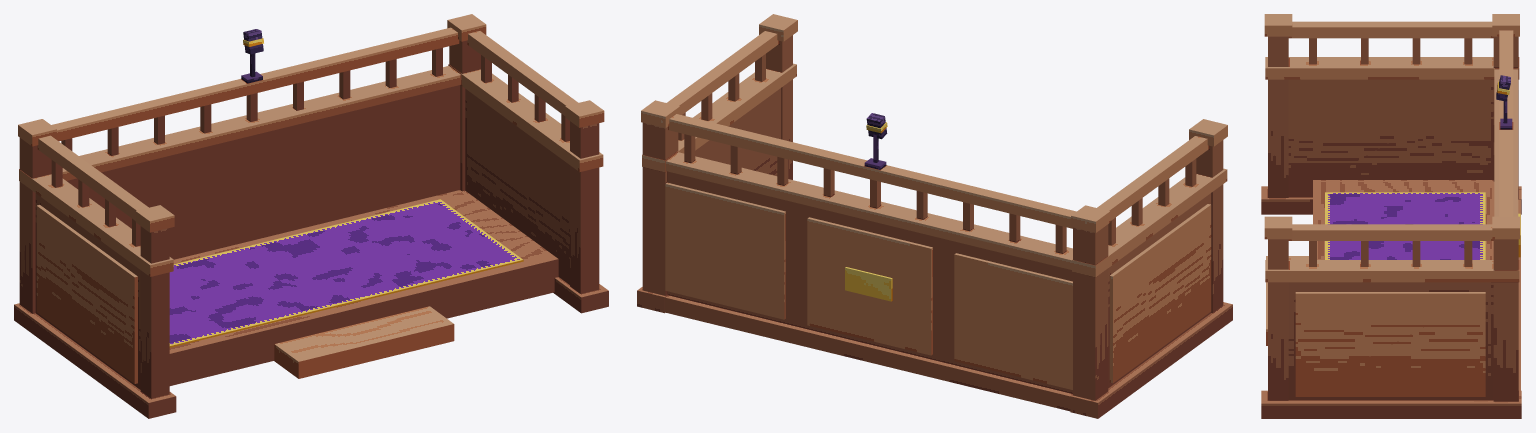
The model's file is witness_stand.gltf.
The picture shows the model from 3 angles, left to right: view 1: azimuth 30°, elevation 25°; view 2: azimuth 150°, elevation 25°; view 3: azimuth 270°, elevation 25°; orthographic projection. The views are drawn at different scales.
Visible parts, largest first — view 1: front_wall, carpet, floor, side_inset_left, side_wall_right, wall_cap_front, handrail_front, step, post_back_left, post_back_right, wall_cap_side_left, plinth_side_left (+11 smaller); view 2: front_inset3, front_inset1, front_inset2, side_inset_left, front_wall, wall_cap_front, plinth_front, handrail_front, post_front_left, post_front_right, wall_cap_side_left, plinth_side_left (+12 smaller); view 3: side_wall_left, side_inset_right, carpet, wall_cap_side_right, plinth_side_right, wall_cap_side_left, side_wall_right, post_front_right, handrail_side_left, handrail_side_right, floor, post_back_right (+11 smaller).
Part boxes in pixels (box(x1,y1,x2,y2)): front_wall: box(67, 85, 460, 259); carpet: box(169, 199, 523, 347); floor: box(169, 190, 558, 385); side_inset_left: box(36, 205, 137, 383); side_wall_right: box(465, 89, 569, 284); wall_cap_front: box(62, 66, 461, 180); handrail_front: box(51, 27, 459, 141); step: box(274, 306, 454, 378); post_back_left: box(140, 226, 169, 398); post_back_right: box(570, 121, 599, 293); wall_cap_side_left: box(19, 169, 173, 276); plinth_side_left: box(14, 303, 176, 418); front_inset3: box(665, 182, 785, 319); front_inset1: box(954, 253, 1072, 389); front_inset2: box(807, 217, 932, 355); side_inset_left: box(1109, 204, 1211, 383); front_wall: box(667, 171, 1072, 393); wall_cap_front: box(666, 152, 1072, 269); plinth_front: box(665, 295, 1072, 411); handrail_front: box(668, 114, 1076, 228); post_front_left: box(1073, 224, 1108, 400); post_front_right: box(642, 122, 678, 295); wall_cap_side_left: box(1072, 168, 1227, 277); plinth_side_left: box(1070, 302, 1232, 418); side_wall_left: box(1288, 79, 1493, 197); side_inset_right: box(1295, 292, 1485, 396); carpet: box(1325, 192, 1485, 259); wall_cap_side_right: box(1265, 260, 1519, 282); plinth_side_right: box(1261, 390, 1521, 418); wall_cap_side_left: box(1265, 57, 1519, 79); side_wall_right: box(1288, 282, 1493, 400); post_front_right: box(1493, 239, 1518, 401); handrail_side_left: box(1288, 21, 1493, 38); handrail_side_right: box(1288, 224, 1493, 240); floor: box(1313, 180, 1494, 259); post_back_right: box(1268, 239, 1288, 400).
Size of the model in its own units: 2.98 by 1.49 by 1.51.
3 materials, 3 textured.
